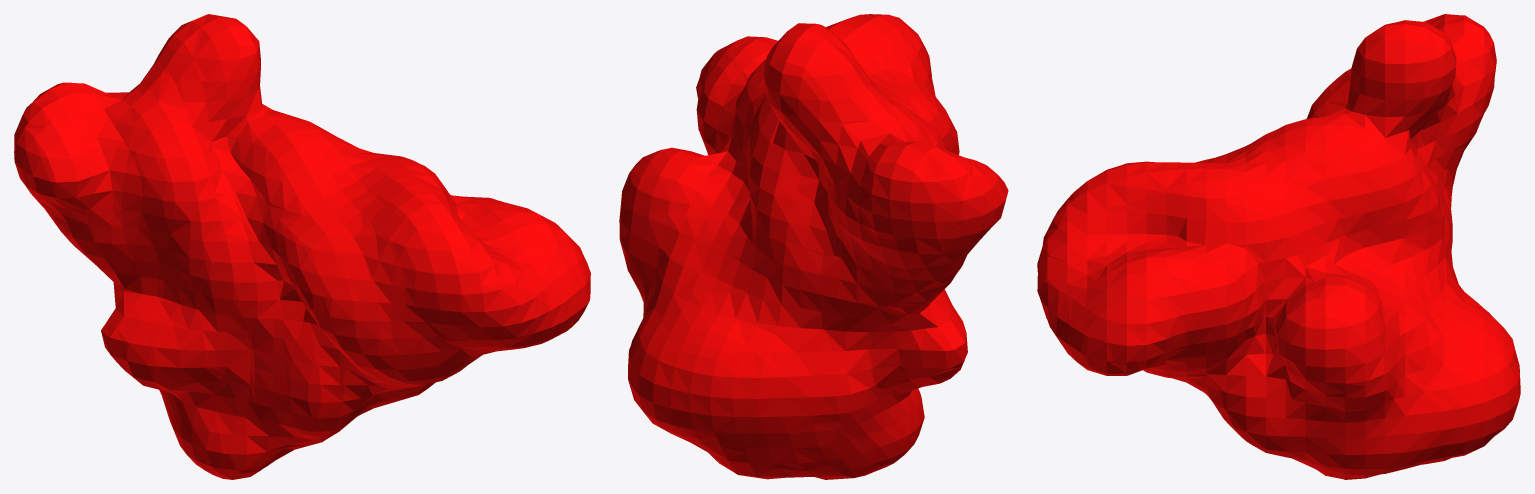
Rendered from rplY_coarse.dae.
3 renders of one model, left to right at view 1: azimuth 30°, elevation 25°; view 2: azimuth 150°, elevation 25°; view 3: azimuth 270°, elevation 25°, orthographic. The views are drawn at different scales.
Visible parts, largest first — view 1: rplY; view 2: rplY; view 3: rplY.
Boxes of the visible parts, <box> form: rplY: <box>14,14,590,479</box>; rplY: <box>619,14,1008,479</box>; rplY: <box>1037,14,1520,479</box>.
Bounding box in the file's own units: 55.77 × 54.1 × 54.75.
